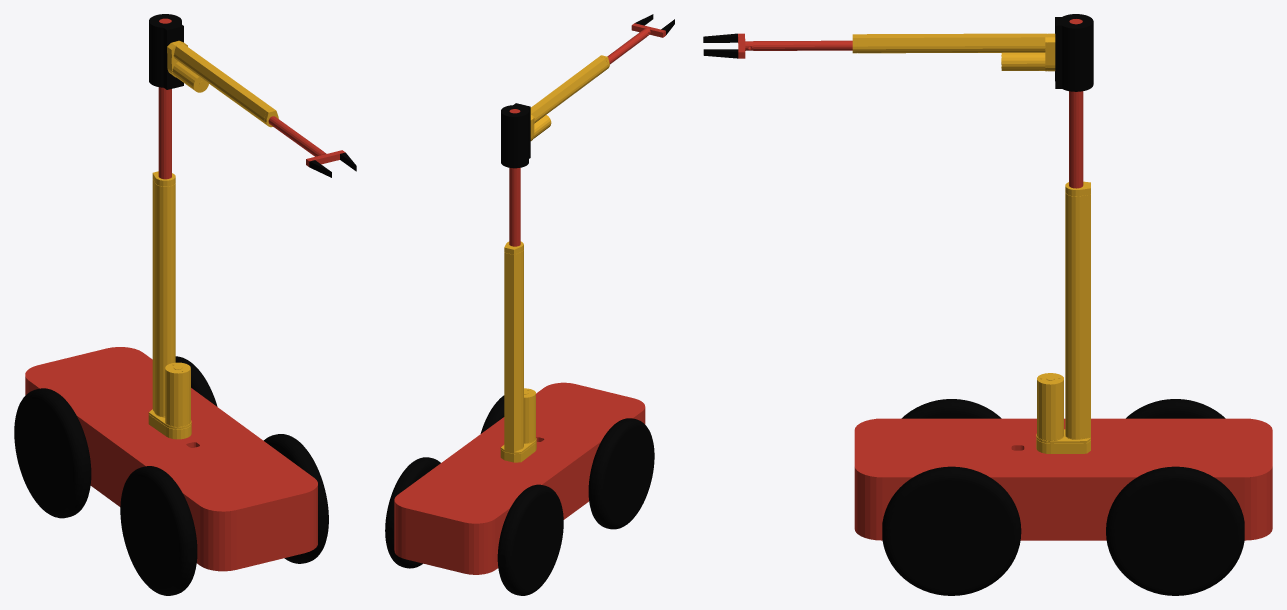
Rendered from robot unity v2.fbx.
The picture shows the model from 3 angles, left to right: view 1: azimuth 30°, elevation 25°; view 2: azimuth 150°, elevation 25°; view 3: azimuth 270°, elevation 25°; orthographic projection. The views are drawn at different scales.
Parts seen in each view (by area): view 1: Body1 (×6), Body1 (1) (×2), Body1 (1) (1) (×2); view 2: Body1 (×6), Body1 (1) (×2), Body1 (1) (1) (×2); view 3: Body1 (×6), Body1 (1) (×2), Body1 (1) (1) (×2).
Part boxes in pixels (x1=…): Body1 (×6): x1=14, y1=14, x2=328, y2=595; Body1 (1) (×2): x1=148, y1=40, x2=278, y2=439; Body1 (1) (1) (×2): x1=158, y1=18, x2=345, y2=179; Body1 (×6): x1=385, y1=103, x2=654, y2=595; Body1 (1) (×2): x1=500, y1=55, x2=609, y2=462; Body1 (1) (1) (×2): x1=509, y1=23, x2=665, y2=246; Body1 (×6): x1=854, y1=14, x2=1272, y2=595; Body1 (1) (×2): x1=852, y1=33, x2=1090, y2=453; Body1 (1) (1) (×2): x1=738, y1=19, x2=1083, y2=188.
Bounding box in the file's own units: 26 × 85.37 × 81.7.
